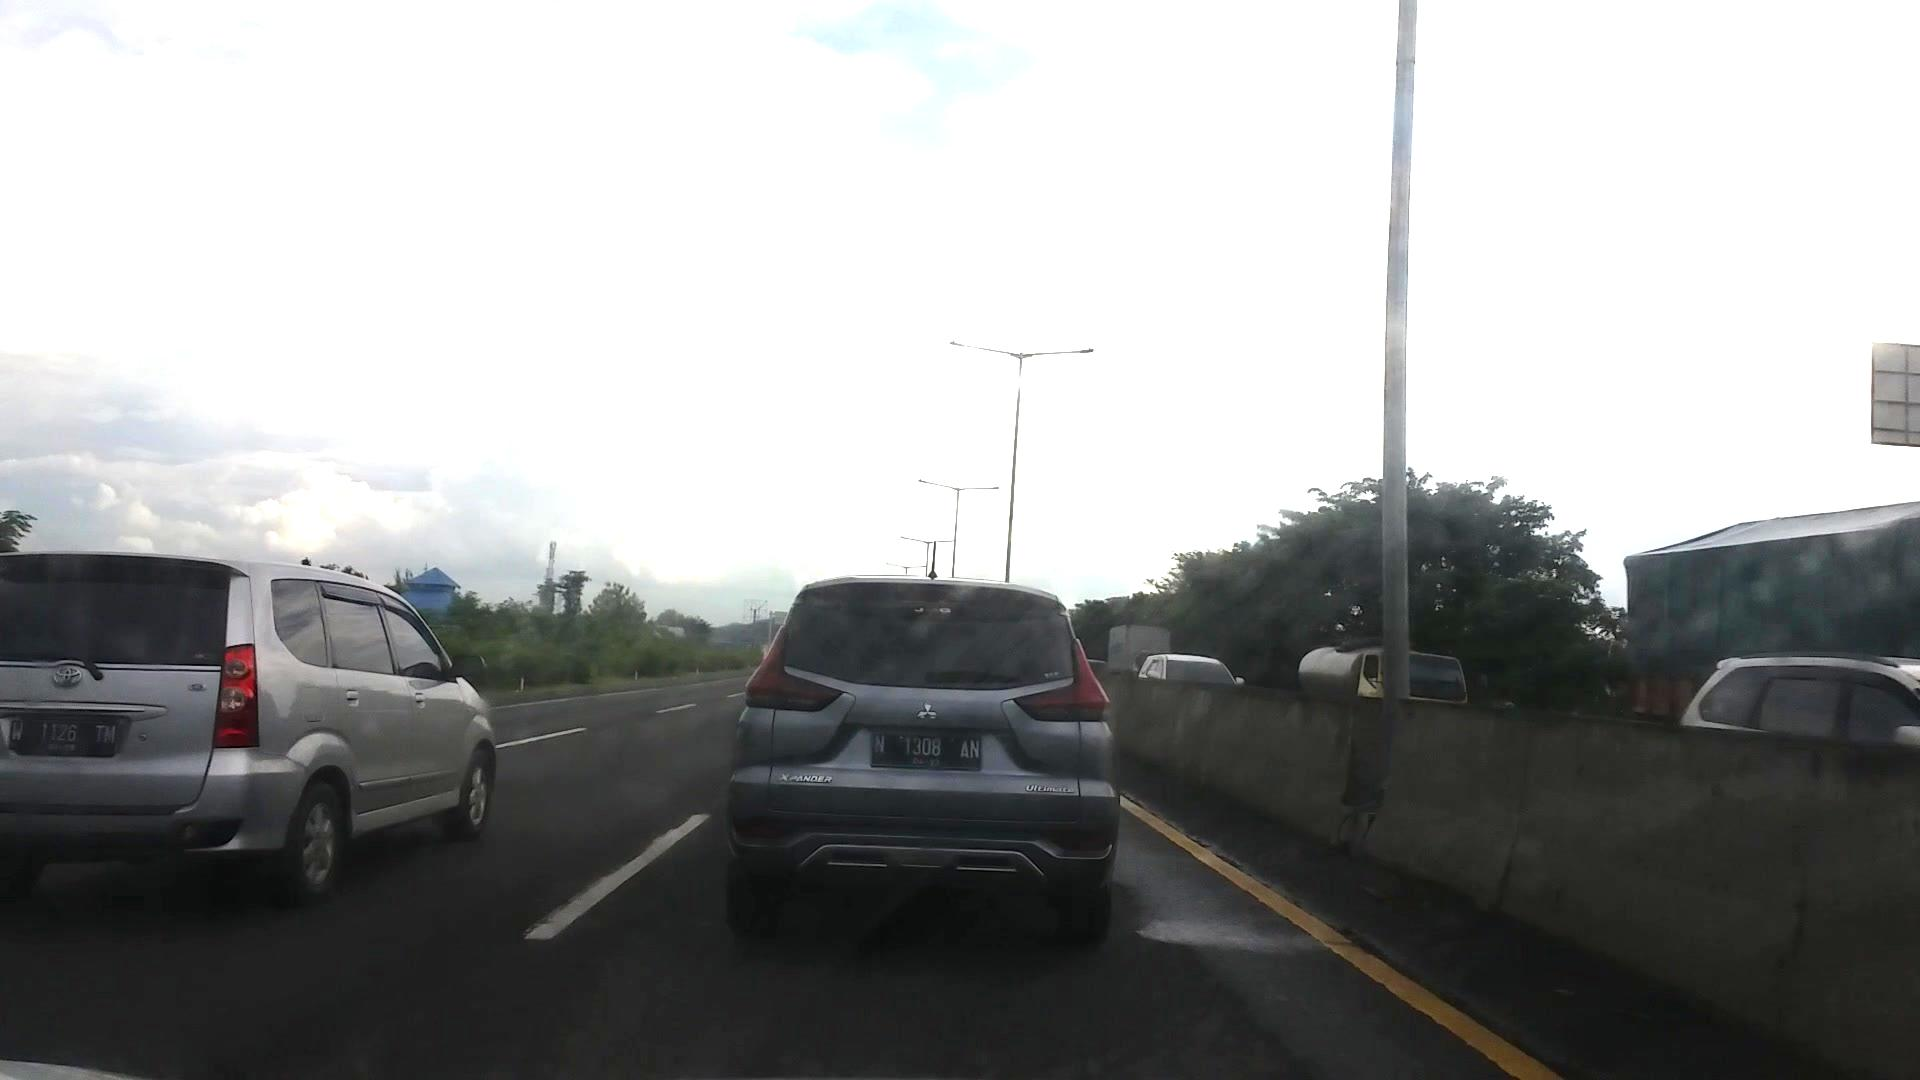plate_positive: (870, 731, 982, 770), (8, 717, 116, 757)
